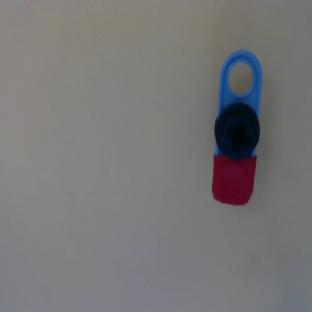part_1_good: (211, 49, 263, 206)
